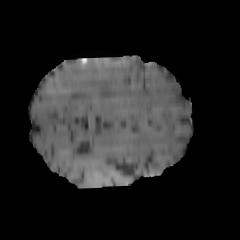glioma: (56, 54, 180, 110)
